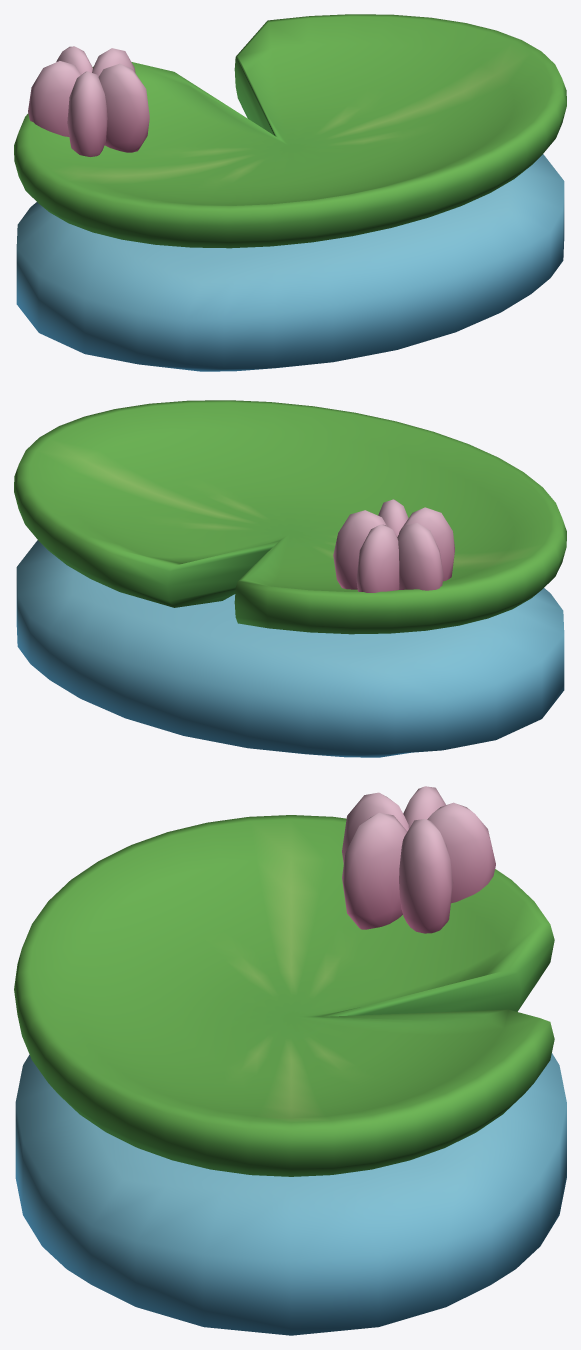
Rendered from pet_mount_lily_pad.fbx.
3 renders of one model, top to bottom at view 1: azimuth 30°, elevation 25°; view 2: azimuth 150°, elevation 25°; view 3: azimuth 270°, elevation 25°, orthographic. The views are drawn at different scales.
Parts seen in each view (by area): view 1: pet_mount_lily_pad; view 2: pet_mount_lily_pad; view 3: pet_mount_lily_pad.
Part boxes in pixels (left/top/right/bottom): pet_mount_lily_pad: left=14, top=14, right=566, bottom=371; pet_mount_lily_pad: left=14, top=400, right=566, bottom=757; pet_mount_lily_pad: left=14, top=786, right=566, bottom=1335.
Bounding box in the file's own units: 3.3 × 1.56 × 2.4.
